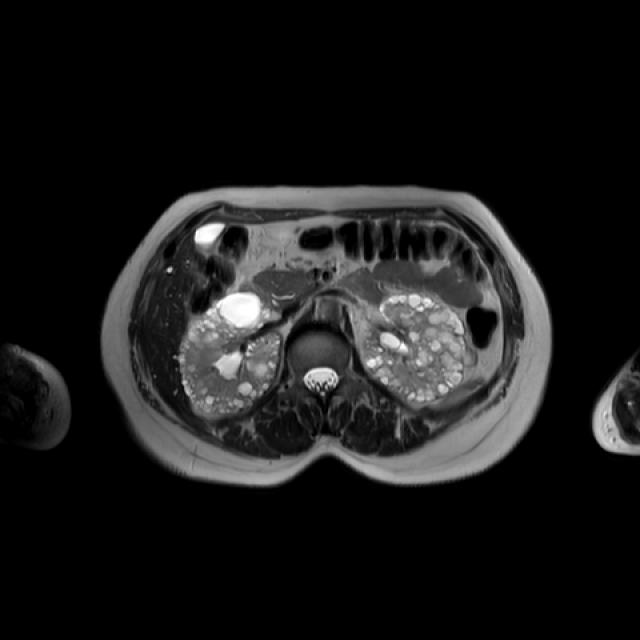sag: (178, 289, 282, 416)
sol: (359, 293, 479, 407)
